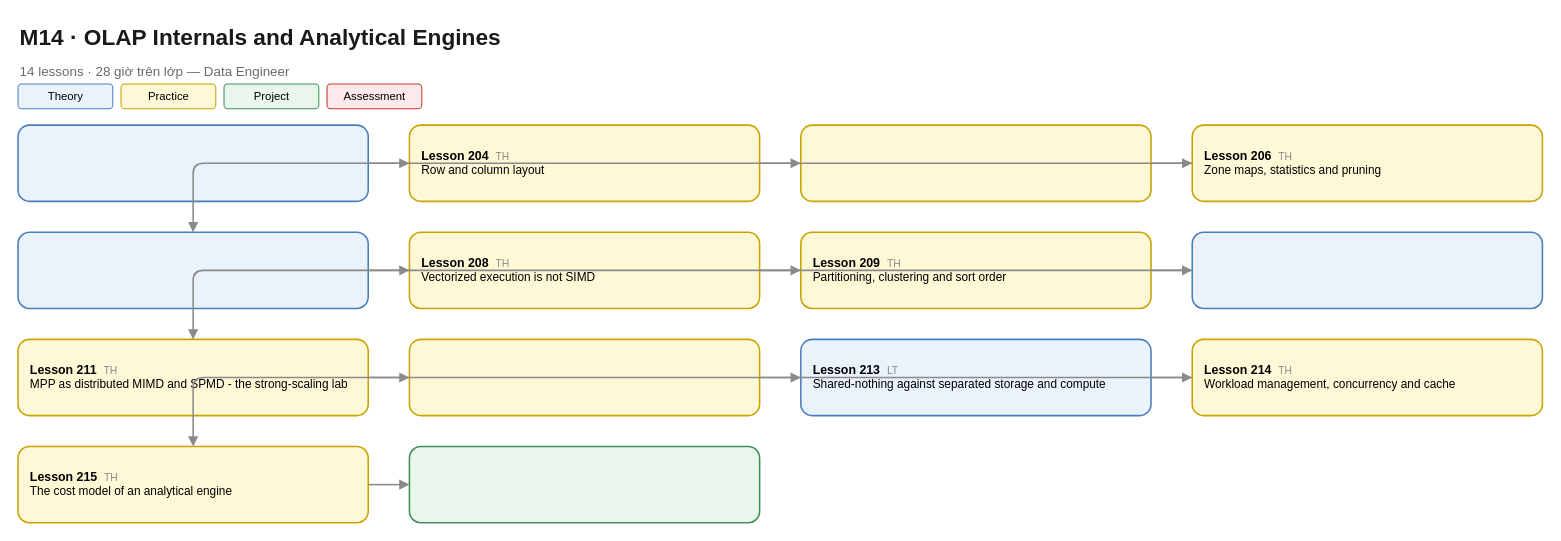
This 1561x541 diagram has some shape labels left out. Here are the shapes that lost their labels. From the top down, the box of each, then its label:
(17, 124, 369, 202): Lesson 203 LT OLTP against OLAP - the workload is the difference
(800, 124, 1151, 202): Lesson 205 TH Encoding and compression
(17, 231, 369, 309): Lesson 207 LT Vectorized execution and late materialization
(1191, 231, 1543, 309): Lesson 210 LT MPP - coordinator, fragments and exchange
(408, 338, 760, 416): Lesson 212 TH Broadcast, repartition, skew and spill
(408, 445, 760, 523): Lesson 216 DA Engine selection - five archetypes, one ADR
